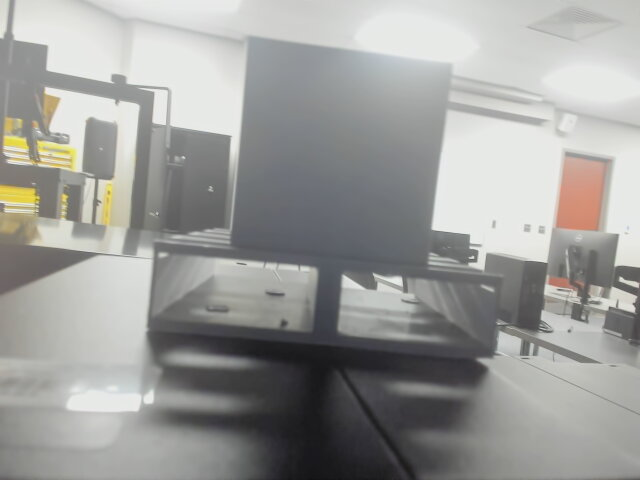grey pallet: (144, 30, 505, 361)
